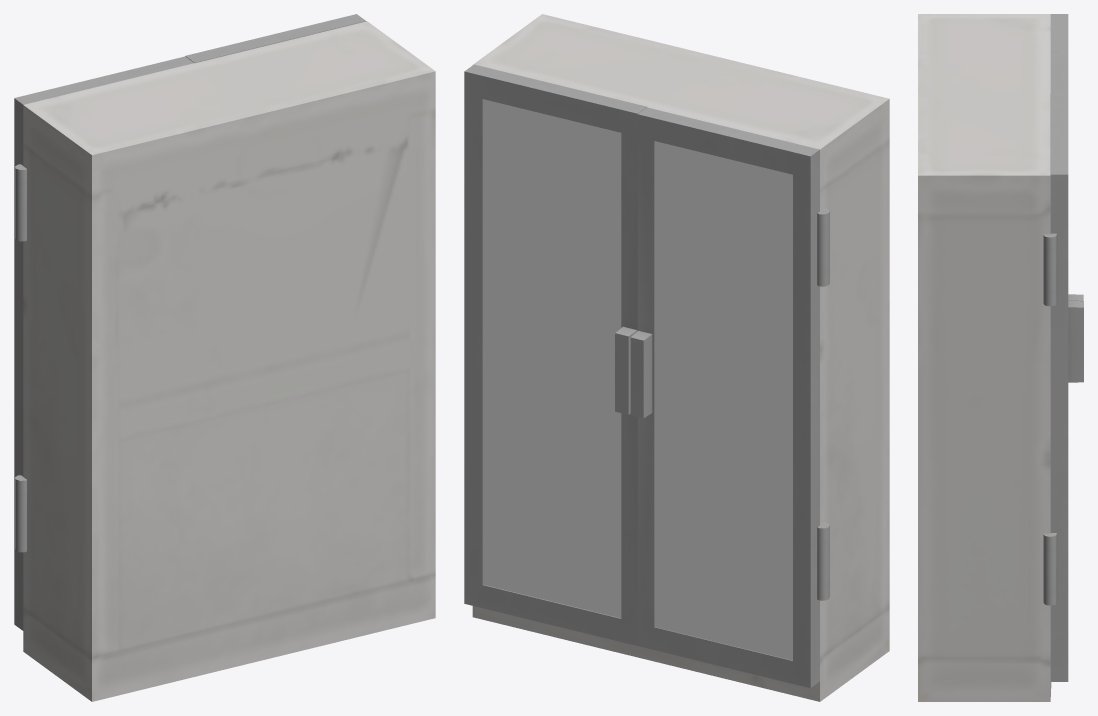
The model's file is Pfb_Indoors_Study_Shelf_JLAB04__5.fbx.
3 views of the same model, side by side, from view 1: azimuth 30°, elevation 25°; view 2: azimuth 150°, elevation 25°; view 3: azimuth 270°, elevation 25° (orthographic). The views are drawn at different scales.
Parts seen in each view (by area): view 1: Mat_Indoors_Study_01_2_JLAB, MAT_Shop_Refridge_01_JLAB; view 2: Mat_Tile_Color_08 3, Mat_Indoors_Study_01_2_JLAB, MAT_Shop_Refridge_01_JLAB; view 3: Mat_Indoors_Study_01_2_JLAB, MAT_Shop_Refridge_01_JLAB.
Part boxes in pixels (box(x1,y1,x2,y2)): Mat_Indoors_Study_01_2_JLAB: box(23, 21, 435, 701); MAT_Shop_Refridge_01_JLAB: box(14, 14, 365, 630); Mat_Tile_Color_08 3: box(483, 99, 792, 660); Mat_Indoors_Study_01_2_JLAB: box(472, 14, 889, 701); MAT_Shop_Refridge_01_JLAB: box(464, 64, 829, 687); Mat_Indoors_Study_01_2_JLAB: box(918, 14, 1051, 701); MAT_Shop_Refridge_01_JLAB: box(1043, 14, 1083, 681).
Size of the model in its own units: 1.84 by 2.69 by 0.7657.
Materials: 3 (3 with a texture image).
